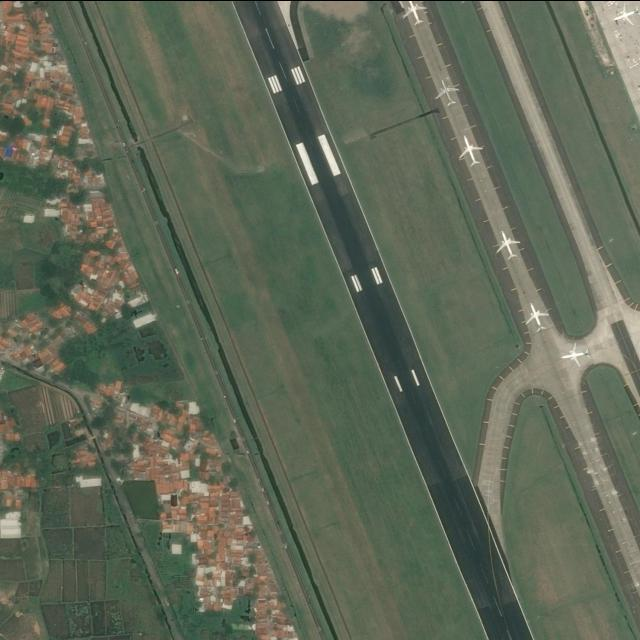Aircraft: (499, 225, 524, 270), (457, 131, 482, 167), (458, 134, 483, 168), (494, 229, 520, 261), (524, 298, 548, 332), (435, 75, 459, 108), (560, 342, 590, 368), (525, 302, 549, 332), (400, 0, 426, 27), (434, 79, 459, 107), (559, 344, 586, 369), (402, 1, 426, 29), (612, 3, 640, 27), (612, 0, 636, 26)
